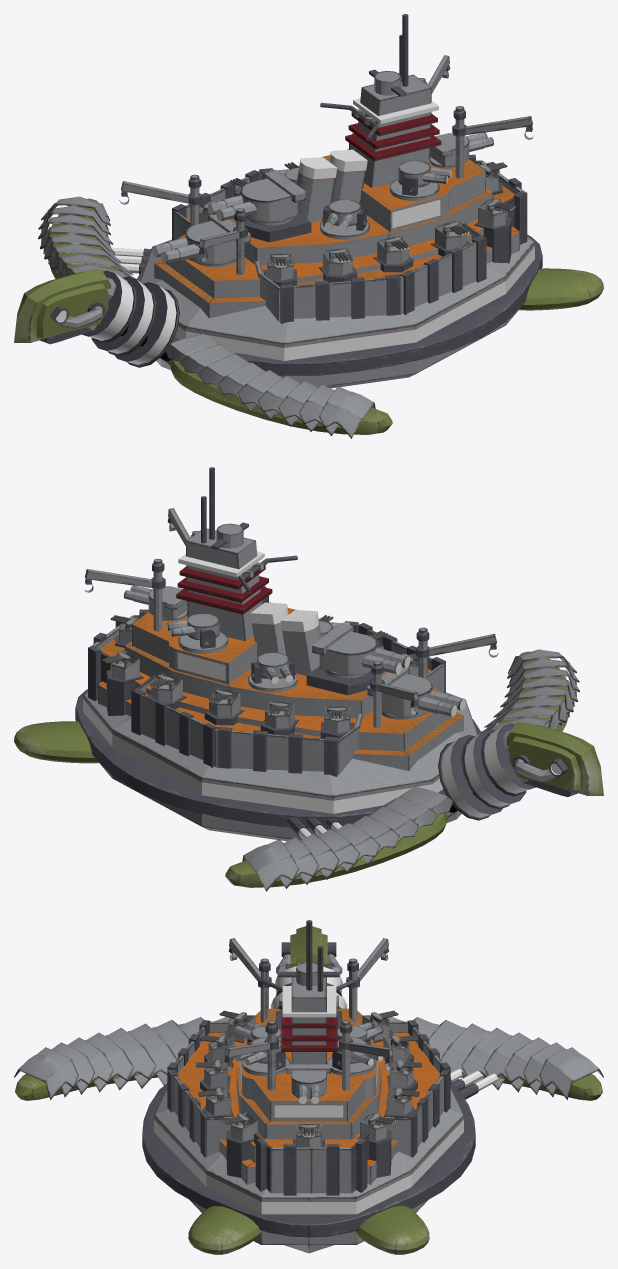
The model's file is LavaEnemy10Combined.fbx.
3 renders of one model, top to bottom at view 1: azimuth 30°, elevation 25°; view 2: azimuth 150°, elevation 25°; view 3: azimuth 270°, elevation 25°, orthographic. The views are drawn at different scales.
Visible parts, largest first — view 1: Cube.098; view 2: Cube.098; view 3: Cube.098.
Part boxes in pixels (x1,y1,x2,y2): Cube.098: [14, 14, 603, 438]; Cube.098: [14, 467, 603, 891]; Cube.098: [14, 920, 603, 1254].
Bounding box in the file's own units: 410 × 212 × 401.
